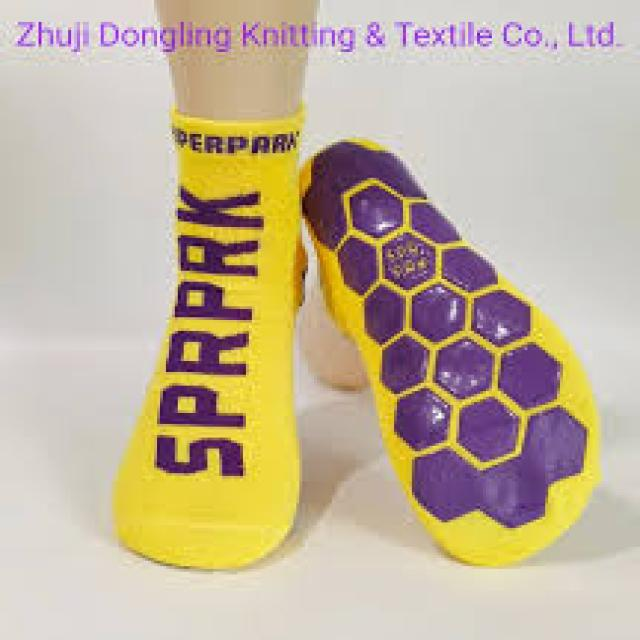sock: (296, 134, 602, 566)
